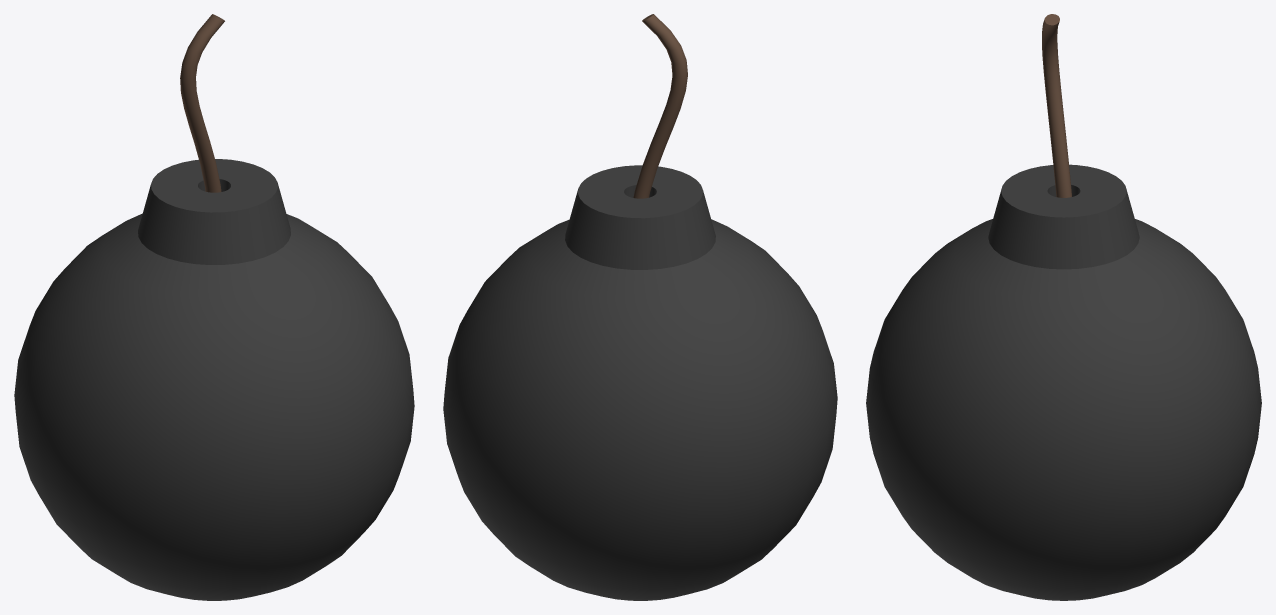
File: bomb.fbx
3 renders of one model, left to right at view 1: azimuth 30°, elevation 25°; view 2: azimuth 150°, elevation 25°; view 3: azimuth 270°, elevation 25°, orthographic.
Parts seen in each view (by area): view 1: Sphere, BezierCurve; view 2: Sphere, BezierCurve; view 3: Sphere, BezierCurve.
Part boxes in pixels (left/top/right/bottom): Sphere: left=14, top=159, right=414, bottom=600; BezierCurve: left=180, top=14, right=224, bottom=192; Sphere: left=443, top=165, right=837, bottom=600; BezierCurve: left=633, top=14, right=687, bottom=198; Sphere: left=866, top=164, right=1261, bottom=600; BezierCurve: left=1042, top=14, right=1071, bottom=197.
Size of the model in its own units: 200 by 315 by 200.
